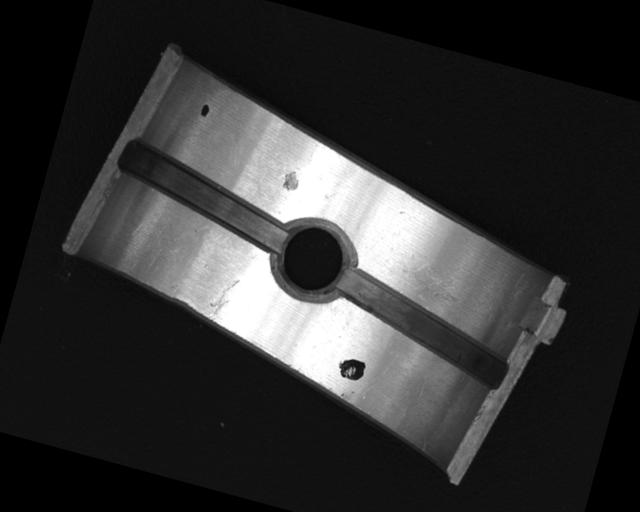blot: (335, 354, 369, 383), (198, 102, 212, 118)
bruise: (281, 167, 301, 193)
gap: (323, 264, 522, 389), (106, 137, 301, 249)
hole: (266, 209, 363, 308)
nick: (206, 272, 241, 323)
scratch: (400, 256, 492, 325)
